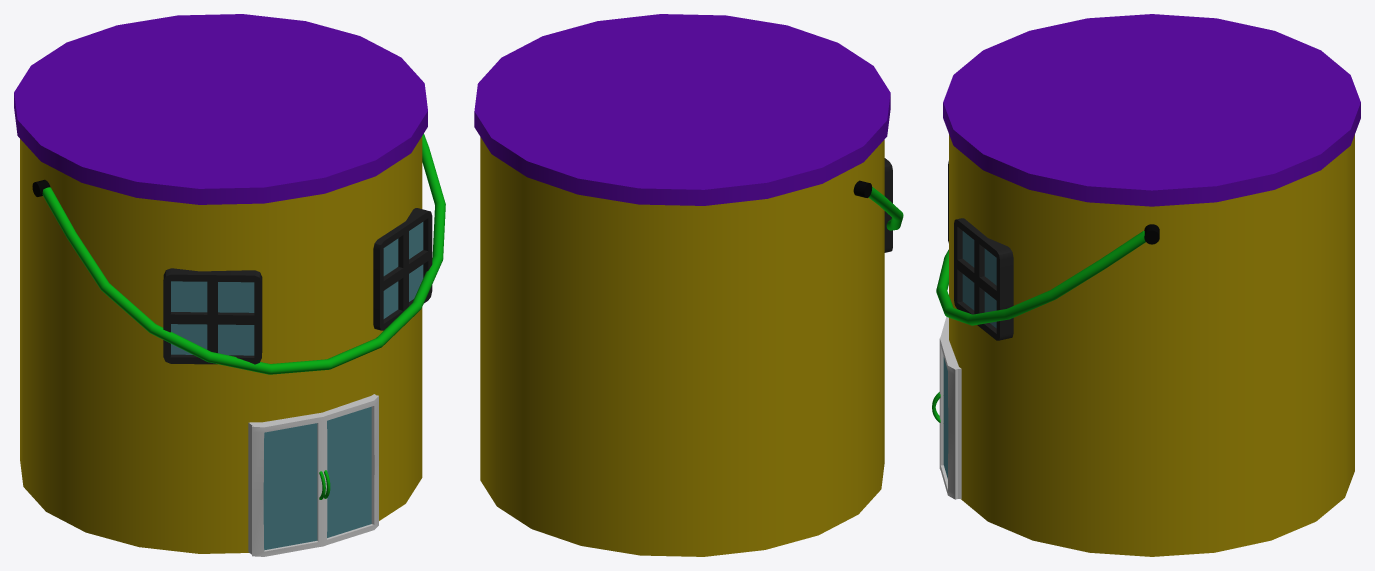
File: BucketBuilding.fbx
The picture shows the model from 3 angles, left to right: view 1: azimuth 30°, elevation 25°; view 2: azimuth 150°, elevation 25°; view 3: azimuth 270°, elevation 25°; orthographic projection.
Parts seen in each view (by area): view 1: paintBucketBuilding; view 2: paintBucketBuilding; view 3: paintBucketBuilding.
Boxes of the visible parts, <box> form: paintBucketBuilding: <box>14,14,445,556</box>; paintBucketBuilding: <box>474,14,903,556</box>; paintBucketBuilding: <box>932,14,1360,556</box>.
Size of the model in its own units: 55.7 by 52.51 by 55.32.
